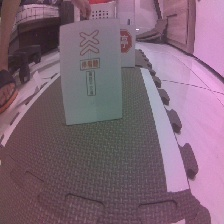rail: (71, 23, 110, 108)
stop: (111, 26, 135, 57)
